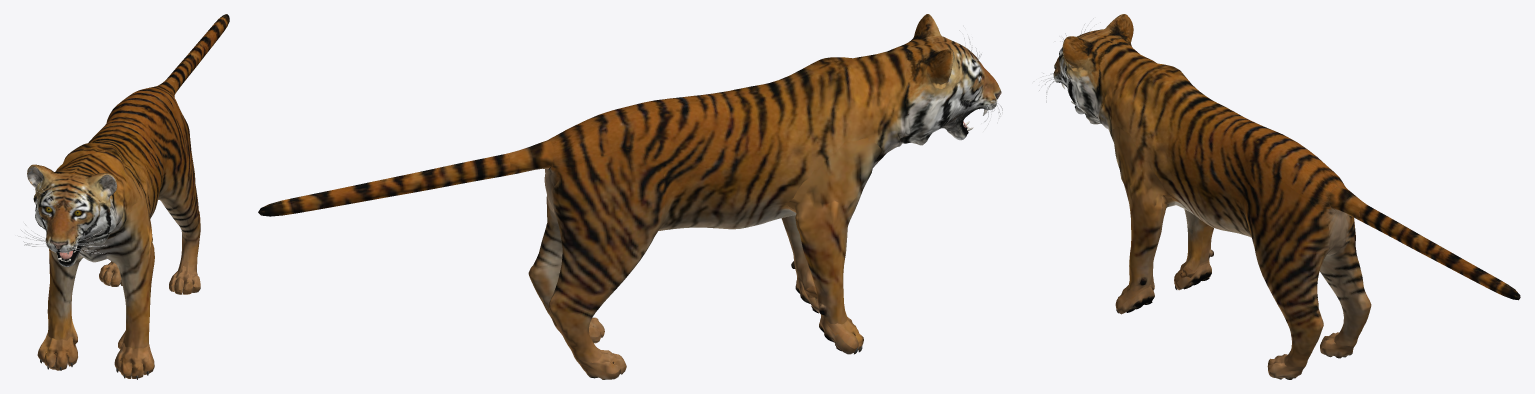
The picture shows the model from 3 angles, left to right: view 1: azimuth 30°, elevation 25°; view 2: azimuth 150°, elevation 25°; view 3: azimuth 270°, elevation 25°; orthographic projection. The views are drawn at different scales.
Visible parts, largest first — view 1: Tiger:null_; view 2: Tiger:null_; view 3: Tiger:null_.
Part boxes in pixels (<box>): Tiger:null_: <box>15,14,229,379</box>; Tiger:null_: <box>258,14,1002,379</box>; Tiger:null_: <box>1032,14,1520,379</box>.
Bounding box in the file's own units: 169 × 92.98 × 167.
1 material, 1 textured.
